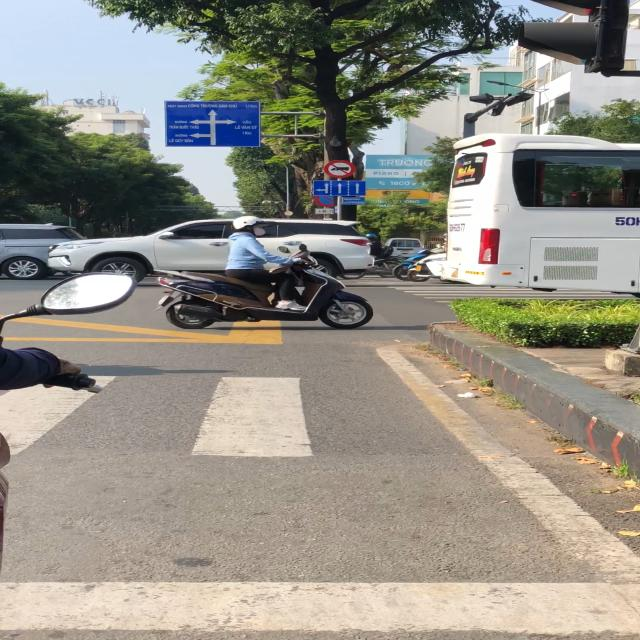Bien bao cam xe so-mi ro-mooc: (321, 159, 359, 179)
